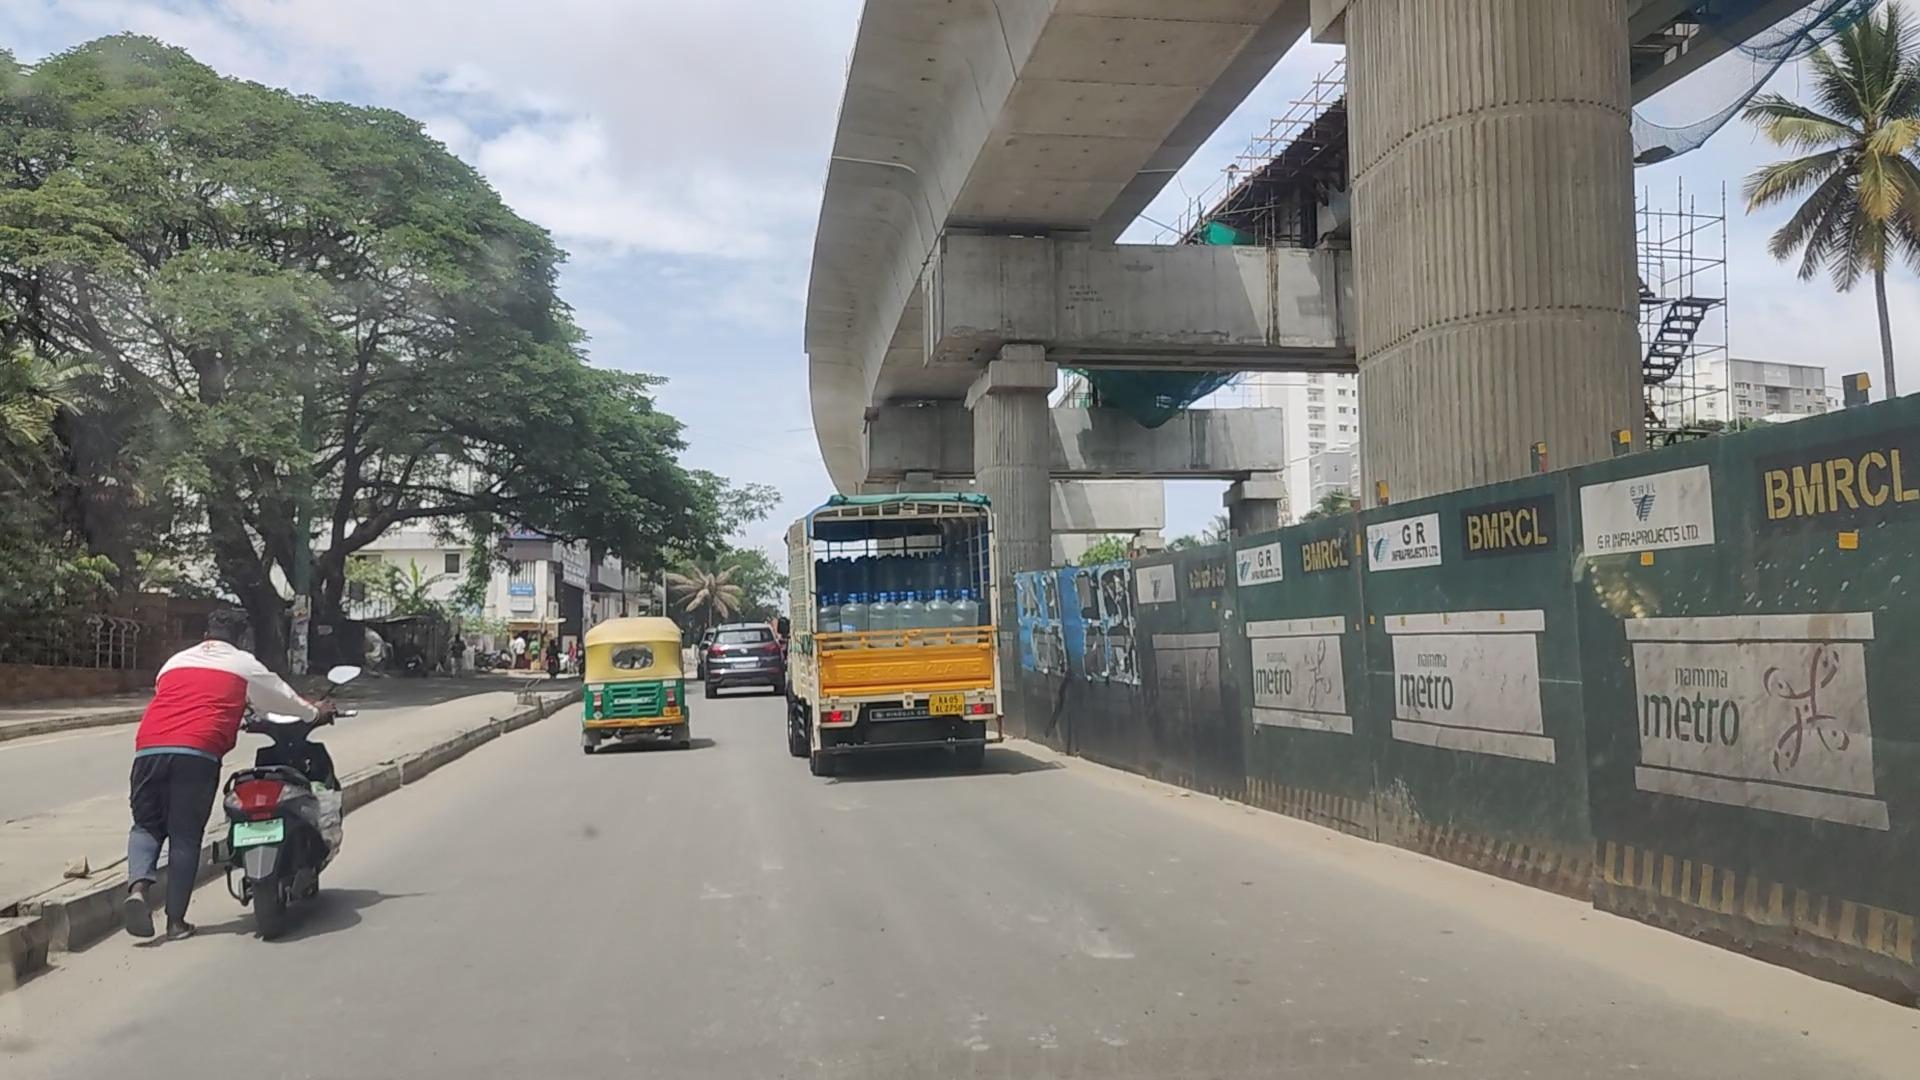HMV: (794, 500, 1004, 760)
LMV: (582, 613, 684, 753)
